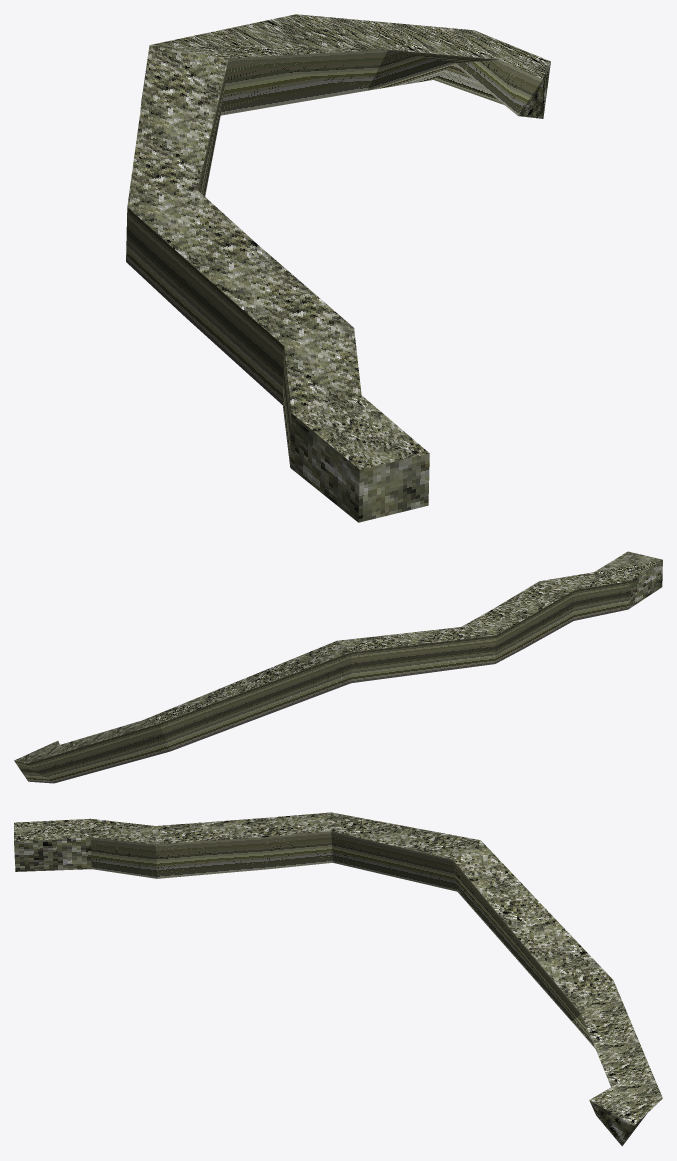
File: fireflyhollow_path.fbx
The picture shows the model from 3 angles, top to bottom: view 1: azimuth 30°, elevation 25°; view 2: azimuth 150°, elevation 25°; view 3: azimuth 270°, elevation 25°; orthographic projection. The views are drawn at different scales.
Visible parts, largest first — view 1: path; view 2: path; view 3: path.
Part boxes in pixels (x1,y1,x2,y2): path: (126,14,550,522); path: (14,551,662,783); path: (14,812,662,1146).
Bounding box in the file's own units: 2619 × 985 × 3529.
Materials: 1 (1 with a texture image).
